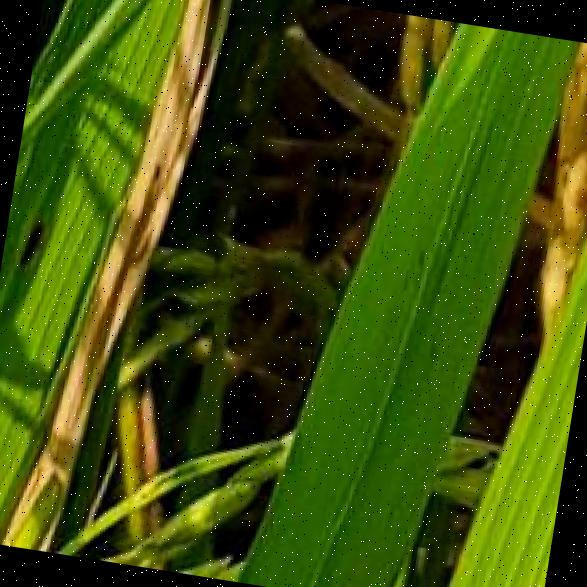Bacteria_Leaf_Blight: (75, 0, 229, 395)
